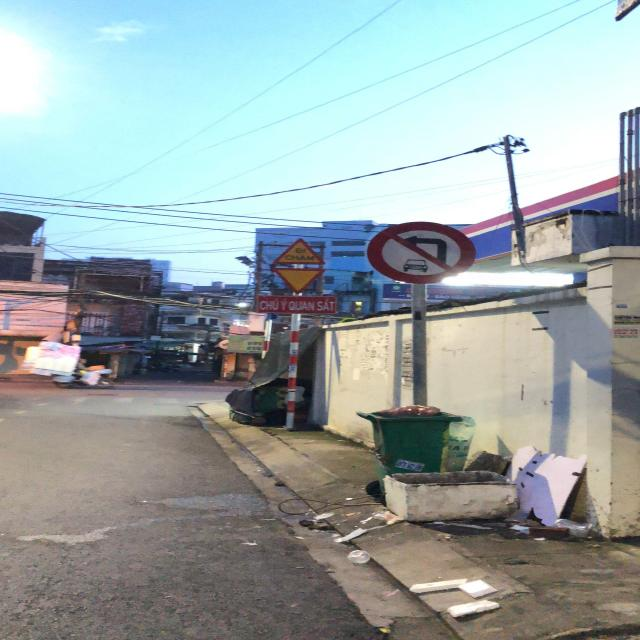Bien bao cam xe o to re trai: (364, 218, 485, 285)
Bien bao di cham: (270, 236, 326, 266)
Bien bao giao nhau voi duong uu tien: (270, 268, 326, 292)
